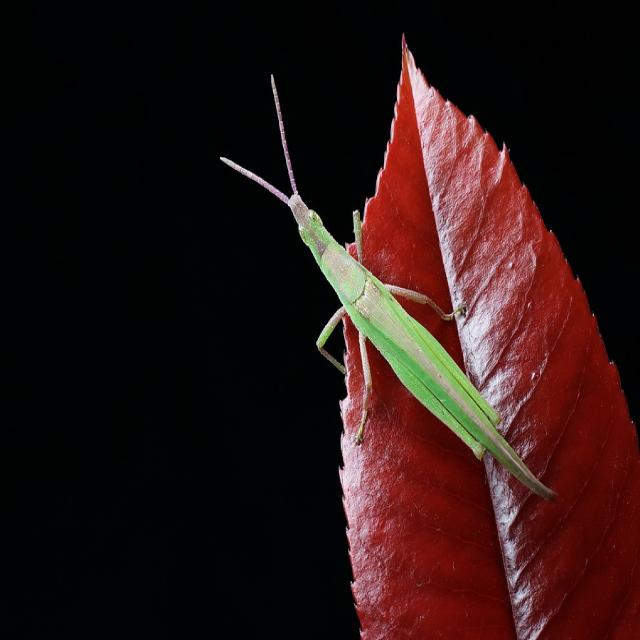ZhaMeng: (186, 51, 575, 509)
